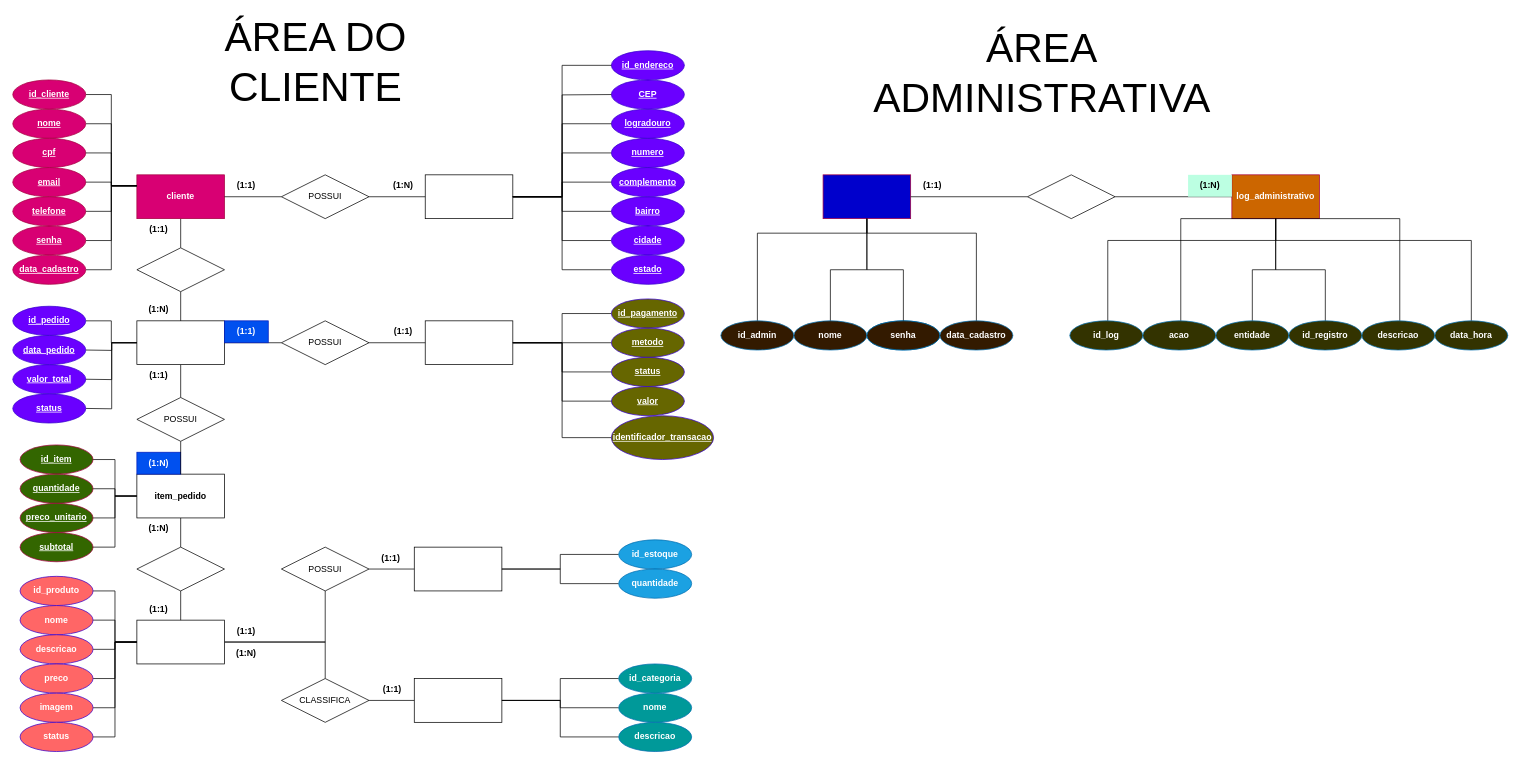
Image size: 1521x764. Some labels were removed from this diagram. The shapes that lost their labels are listed below. From the top down, each one's centre as x and y in pixels, then its label:
the point at 468,196: endereco
the point at 866,196: administrador
the point at 1071,196: GERA
the point at 180,269: FAZ
the point at 180,342: pedido
the point at 468,342: pagamento
the point at 180,568: REFERE-SE A
the point at 458,568: estoque
the point at 180,641: produto
the point at 458,700: categoria
